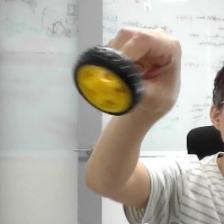wheel: (70, 45, 147, 116)
